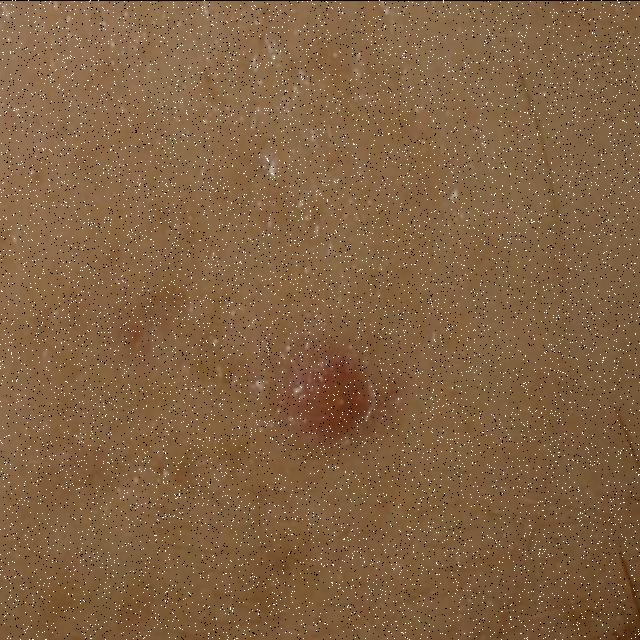nodules: (259, 328, 392, 466)
